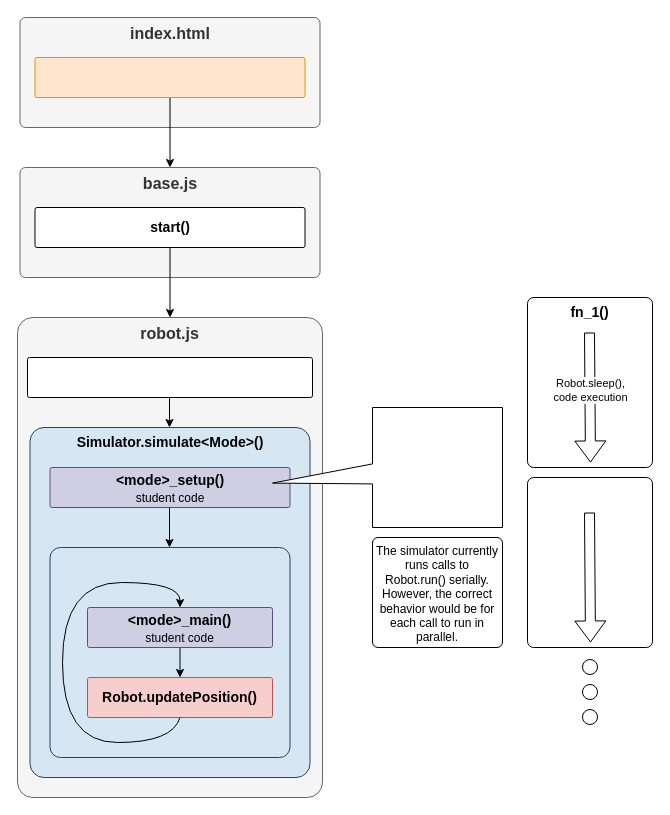
The diagram is 670 pixels wide and 815 high, and some of its shapes have lost their labels. Here are the shapes that lost their labels. From the top down, the box of each, then its label:
(34, 56, 305, 98): <mode>-btn clicked
(26, 356, 312, 398): onmessage()
(272, 406, 502, 528): Robot.run(fn_1) Robot.run(fn_2) ...
(526, 476, 652, 648): fn_2()
(49, 546, 290, 758): Simulator.consistentLoop()
